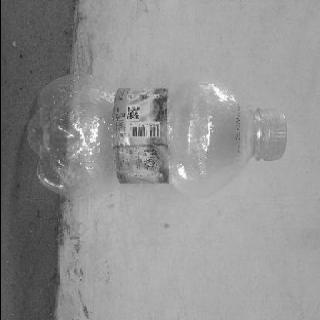plastic_bottles: (23, 74, 290, 202)
